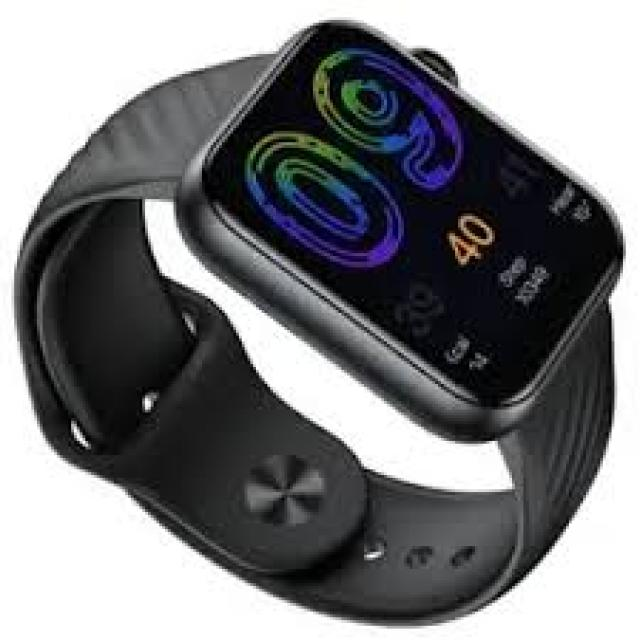objects: (14, 18, 632, 616)
